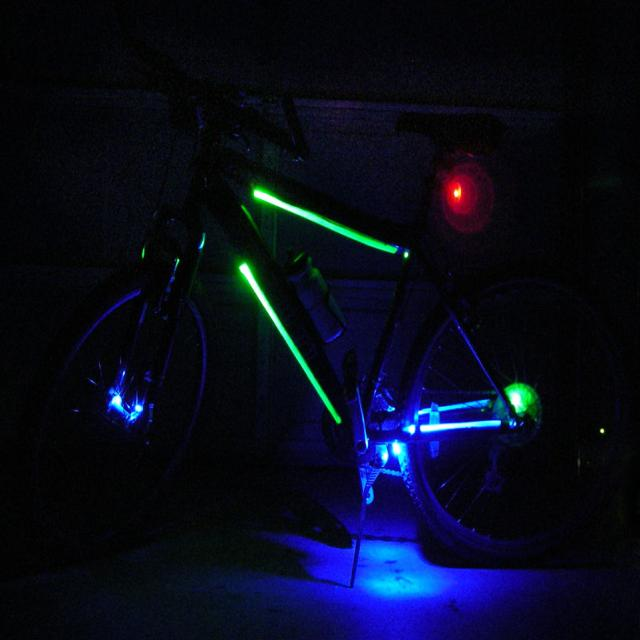Bicycle: (47, 66, 640, 546)
